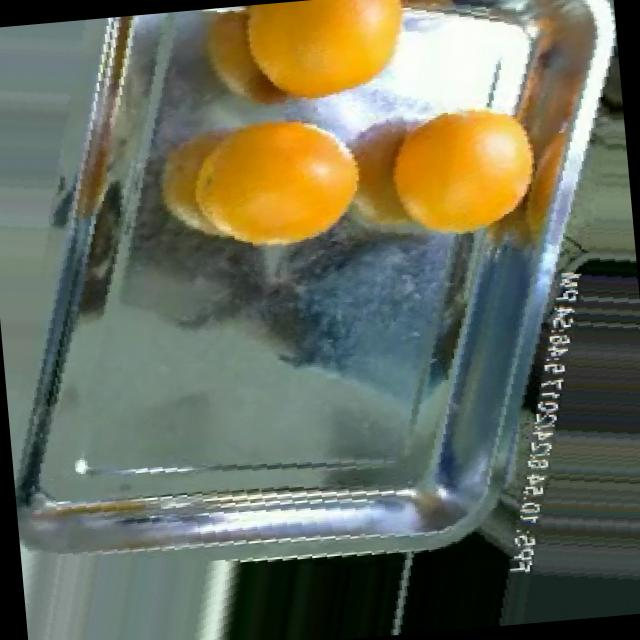Fruit: (575, 0, 624, 134)
